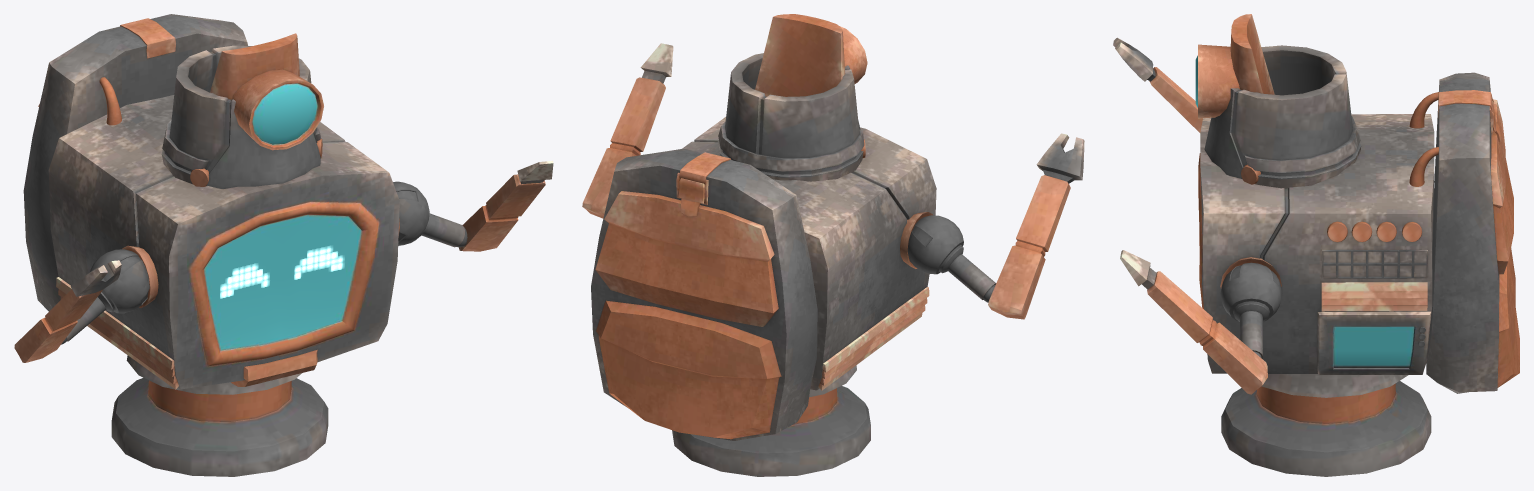
The model's file is functional.glb.
3 views of the same model, side by side, from view 1: azimuth 30°, elevation 25°; view 2: azimuth 150°, elevation 25°; view 3: azimuth 270°, elevation 25° (orthographic). The views are drawn at different scales.
Parts seen in each view (by area): view 1: cabeca.001, base, mochila.001, cabelo, antebraco, lanterna_cabeca, ombro.001, cabelo_detalhe.001, fans.002, queixo, braco.001, cabeca_faixa (+4 smaller); view 2: mochila.001, cabeca.001, base, antebraco, cabelo, cabelo_detalhe.001, cabeca_faixa, fans.002, ombro.001, mao_dir, braco.001, mao_esq (+2 smaller); view 3: cabeca.001, mochila.001, base, cabelo, tela, antebraco, fans.003, cabeca_faixa, ombro.001, lanterna_cabeca, cabelo_detalhe.001, gradil (+4 smaller).
Boxes of the visible parts, left/top/right/bottom form: cabeca.001: left=48, top=95, right=399, bottom=389; base: left=111, top=355, right=328, bottom=476; mochila.001: left=23, top=14, right=247, bottom=311; cabelo: left=169, top=45, right=320, bottom=188; antebraco: left=14, top=174, right=545, bottom=362; lanterna_cabeca: left=232, top=69, right=323, bottom=150; ombro.001: left=89, top=181, right=429, bottom=313; cabelo_detalhe.001: left=210, top=33, right=299, bottom=99; fans.002: left=56, top=277, right=178, bottom=389; queixo: left=231, top=349, right=317, bottom=386; braco.001: left=66, top=213, right=464, bottom=341; cabeca_faixa: left=161, top=120, right=321, bottom=184; mochila.001: left=591, top=148, right=817, bottom=440; cabeca.001: left=682, top=117, right=936, bottom=390; base: left=672, top=365, right=870, bottom=476; antebraco: left=582, top=77, right=1070, bottom=319; cabelo: left=725, top=53, right=860, bottom=158; cabelo_detalhe.001: left=755, top=14, right=845, bottom=96; cabeca_faixa: left=718, top=121, right=864, bottom=181; fans.002: left=818, top=287, right=929, bottom=390; ombro.001: left=907, top=215, right=963, bottom=274; mao_dir: left=1036, top=133, right=1084, bottom=183; braco.001: left=947, top=254, right=996, bottom=299; mao_esq: left=640, top=43, right=673, bottom=83; cabeca.001: left=1198, top=114, right=1434, bottom=373; mochila.001: left=1426, top=72, right=1519, bottom=393; base: left=1221, top=374, right=1431, bottom=476; cabelo: left=1204, top=45, right=1352, bottom=178; tela: left=1317, top=311, right=1431, bottom=374; antebraco: left=1147, top=67, right=1267, bottom=394; fans.003: left=1321, top=282, right=1427, bottom=311; cabeca_faixa: left=1244, top=116, right=1361, bottom=188; ombro.001: left=1220, top=262, right=1282, bottom=321; lanterna_cabeca: left=1195, top=44, right=1239, bottom=118; cabelo_detalhe.001: left=1230, top=14, right=1274, bottom=94; gradil: left=1322, top=249, right=1427, bottom=278.
Size of the model in its own units: 4.82 by 4.31 by 3.67.
Materials: 1 (1 with a texture image).
